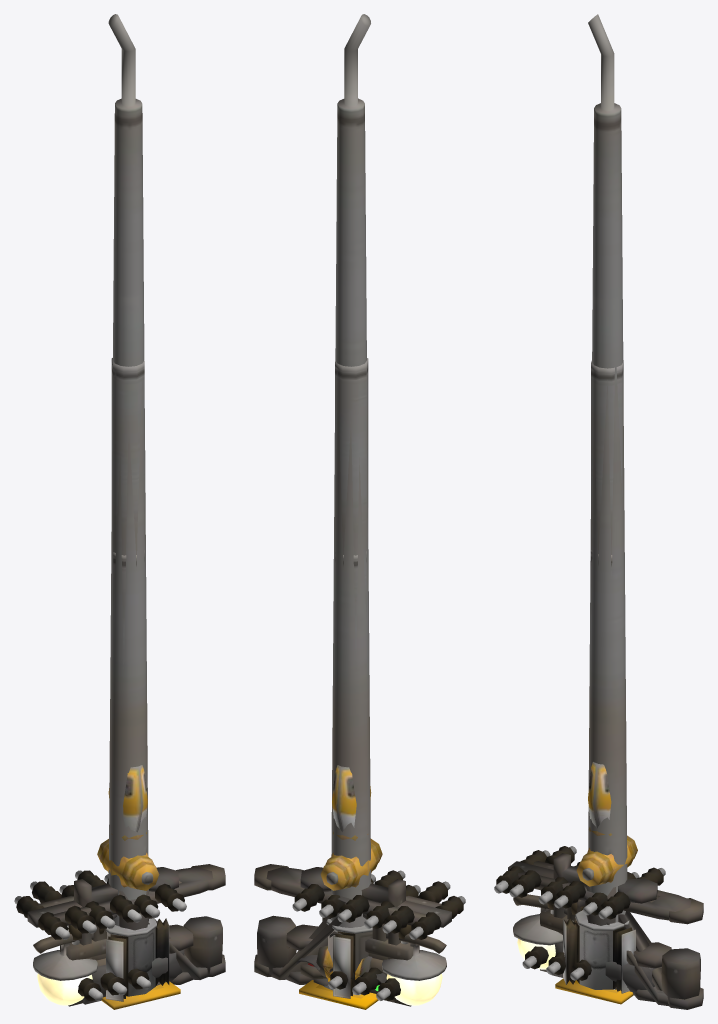
The model's file is street.glb.
3 views of the same model, side by side, from view 1: azimuth 30°, elevation 25°; view 2: azimuth 150°, elevation 25°; view 3: azimuth 330°, elevation 25° (orthographic).
Parts seen in each view (by area): view 1: street_005, street_009, street_012, street_004, street_000, street_003, street_015, street_006, street_014, street_010, street_016, street_019 (+2 smaller); view 2: street_005, street_009, street_004, street_012, street_003, street_015, street_000, street_014, street_006, street_010, street_016, street_002 (+1 smaller); view 3: street_005, street_004, street_000, street_012, street_003, street_009, street_015, street_014, street_006, street_010, street_019, street_002 (+1 smaller).
Part boxes in pixels (x1,y1,x2,y2): street_005: (108,14,148,926); street_009: (111,358,144,619); street_012: (33,916,222,1005); street_004: (30,867,213,979); street_000: (106,918,169,1001); street_003: (14,864,225,976); street_015: (68,924,193,1006); street_006: (97,832,159,890); street_014: (74,867,178,977); street_010: (108,765,147,832); street_016: (60,925,179,984); street_019: (83,949,184,1004); street_005: (331,14,370,927); street_009: (335,358,368,618); street_004: (266,867,450,979); street_012: (257,915,446,1005); street_003: (254,864,465,976); street_015: (286,924,411,1006); street_000: (322,917,372,998); street_014: (300,867,405,1003); street_006: (320,831,382,890); street_010: (332,765,371,831); street_016: (299,924,419,984); street_002: (299,978,378,1009); street_005: (588,14,627,922); street_004: (509,846,691,1005); street_000: (563,910,635,993); street_012: (513,894,700,1004); street_003: (494,850,703,1009); street_009: (591,360,623,570); street_015: (522,942,671,1001); street_014: (553,853,657,988); street_006: (576,827,637,886); street_010: (588,762,611,828); street_019: (552,943,655,994); street_002: (555,978,633,1004).
Size of the model in its own units: 1.24 by 6 by 0.6634.
1 material, 1 textured.
